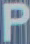Parking: (0, 0, 29, 42)
